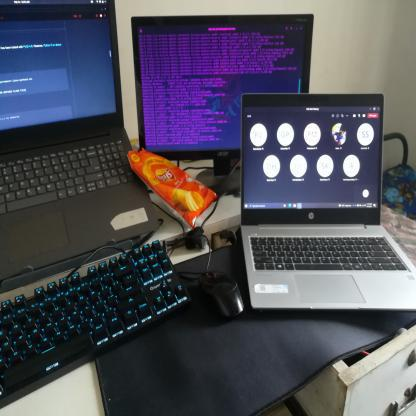hot_and_sweet: (125, 141, 223, 239)
